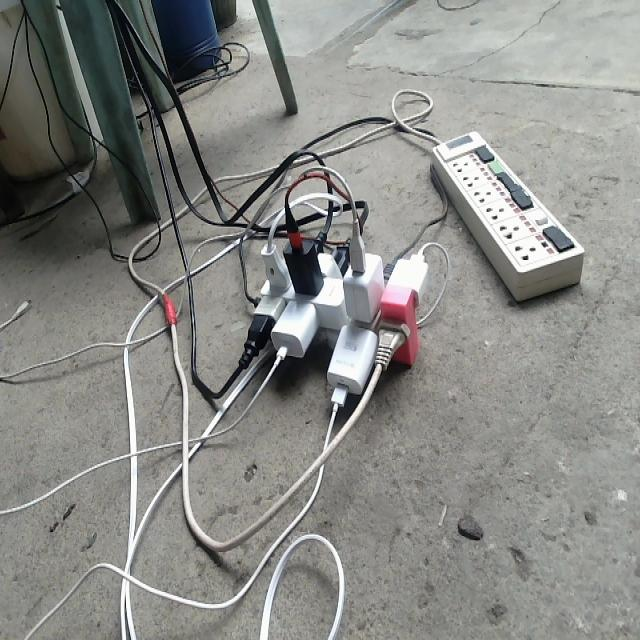-: (235, 196, 430, 415)
